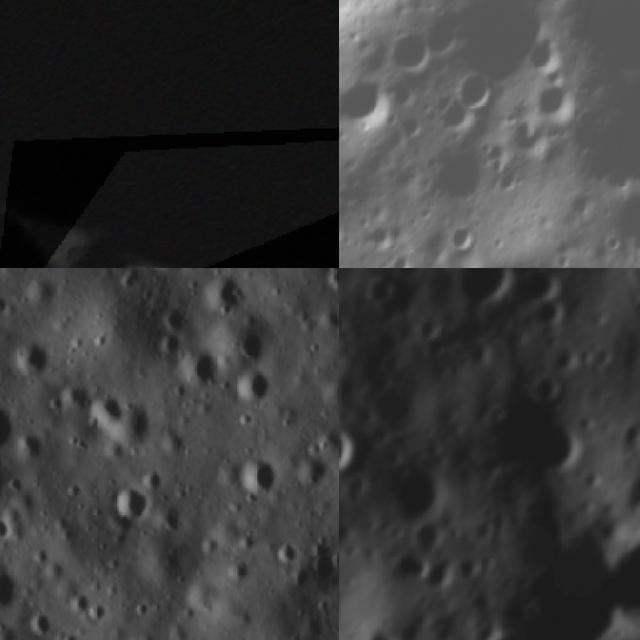crater: (0, 0, 339, 268), (339, 0, 533, 182), (419, 124, 507, 229), (509, 401, 602, 493), (369, 448, 458, 538), (587, 503, 640, 640), (432, 268, 526, 323), (339, 66, 402, 145), (377, 534, 443, 601), (378, 18, 442, 86), (595, 172, 640, 263), (413, 0, 479, 61), (339, 405, 379, 499), (525, 72, 584, 129), (521, 284, 576, 342), (446, 59, 500, 113), (352, 268, 406, 318), (402, 304, 452, 354), (106, 479, 158, 526), (236, 360, 281, 408), (522, 366, 568, 412), (202, 272, 252, 313), (234, 453, 280, 497), (265, 537, 312, 579), (610, 462, 640, 525), (442, 214, 486, 256), (87, 391, 131, 431), (7, 339, 53, 377), (292, 443, 332, 483), (350, 618, 412, 640), (609, 415, 640, 459), (187, 351, 220, 389), (150, 299, 187, 332), (23, 602, 54, 640), (154, 332, 190, 361), (305, 268, 339, 296), (0, 556, 16, 614), (5, 469, 32, 501), (0, 399, 15, 453), (374, 268, 431, 280), (561, 268, 620, 277), (0, 518, 12, 551)
